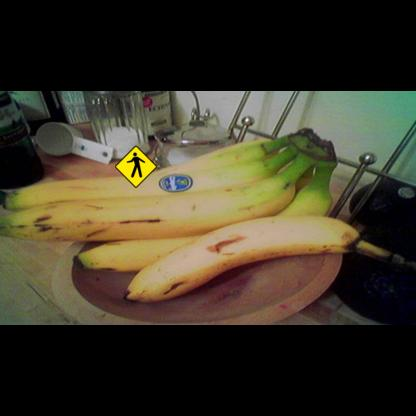A-32a: (114, 145, 157, 188)
